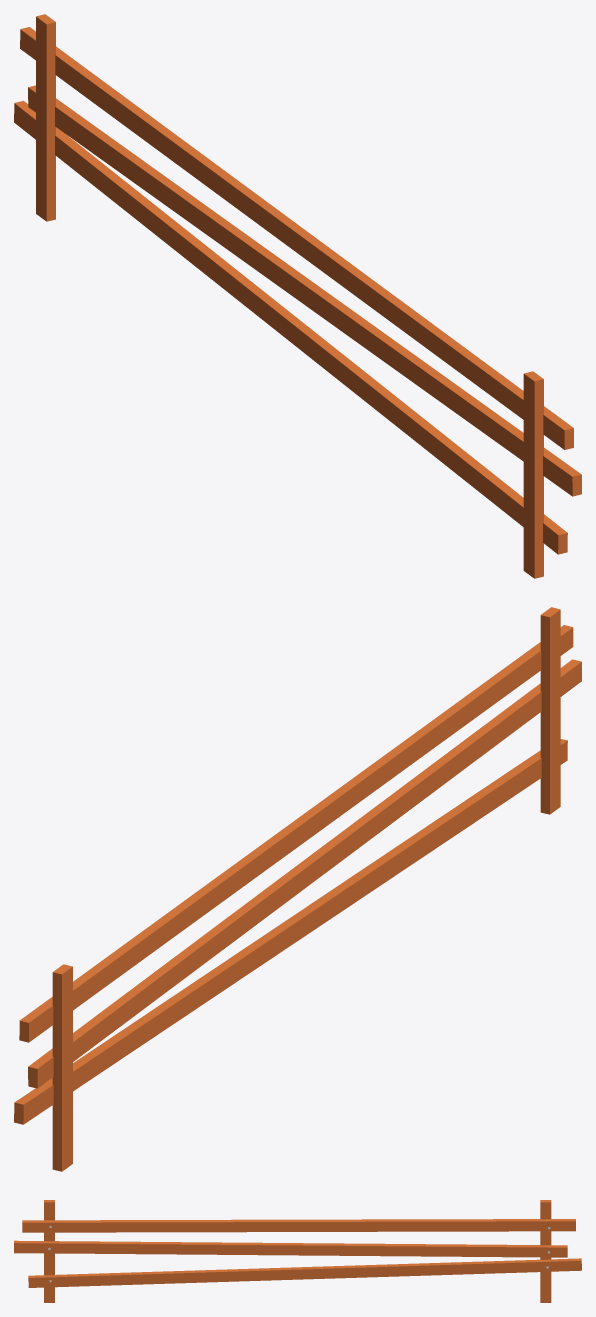
The model's file is fence_type4.glb.
3 views of the same model, one above another, from view 1: azimuth 30°, elevation 25°; view 2: azimuth 150°, elevation 25°; view 3: azimuth 270°, elevation 25° (orthographic). The views are drawn at different scales.
Parts seen in each view (by area): view 1: Cube.003, Cube, Cube.004, Cube.002, Cube.001; view 2: Cube.004, Cube, Cube.003, Cube.001, Cube.002; view 3: Cube.003, Cube.004, Cube, Cube.001, Cube.002.
Part boxes in pixels (x1,y1,x2,y2): Cube.003: [14, 100, 567, 554]; Cube: [20, 27, 573, 449]; Cube.004: [28, 85, 581, 496]; Cube.002: [523, 371, 543, 578]; Cube.001: [36, 14, 55, 221]; Cube.004: [28, 659, 581, 1088]; Cube: [19, 625, 573, 1042]; Cube.003: [14, 739, 567, 1124]; Cube.001: [52, 964, 72, 1171]; Cube.002: [540, 607, 560, 814]; Cube.003: [28, 1258, 581, 1287]; Cube.004: [14, 1240, 567, 1257]; Cube: [22, 1219, 575, 1232]; Cube.001: [540, 1200, 551, 1302]; Cube.002: [44, 1200, 54, 1302].
Bounding box in the file's own units: 0.3903 × 4 × 20.52.
